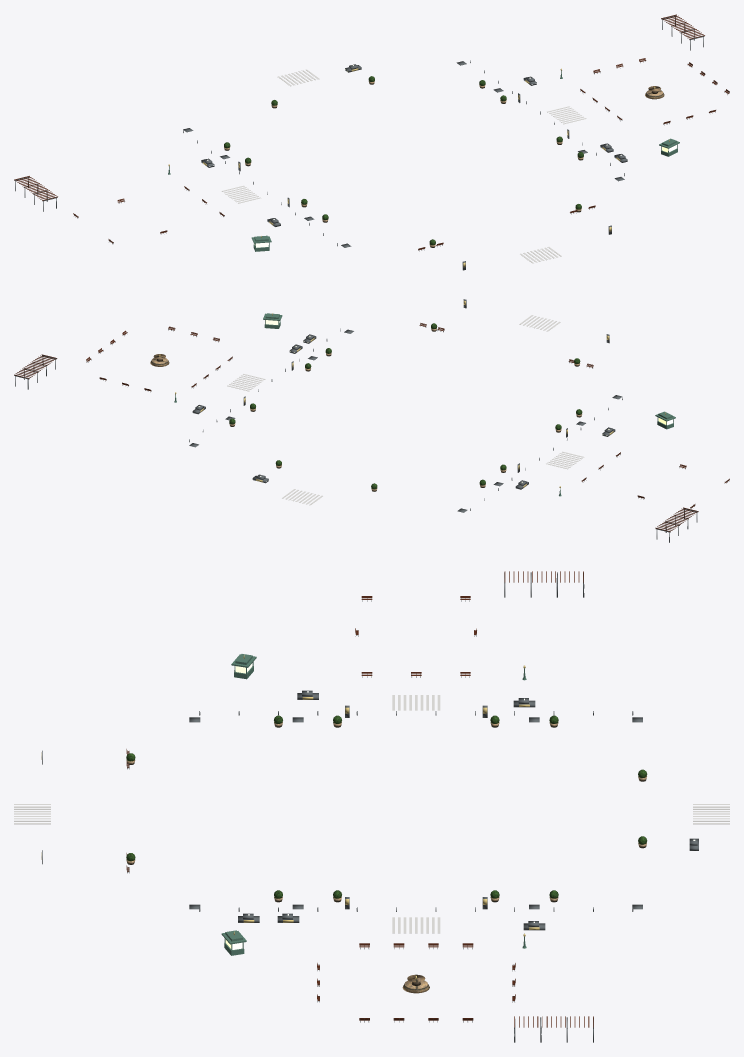
The model's file is plaza_life.glb.
3 renders of one model, top to bottom at view 1: azimuth 30°, elevation 25°; view 2: azimuth 150°, elevation 25°; view 3: azimuth 270°, elevation 25°, orthographic. The views are drawn at different scales.
Parts seen in each view (by area): view 1: Plaza_BollardsAndPergolaIron, Plaza_Crosswalks, Plaza_PergolaWood, Plaza_BarcelonaKiosks, Plaza_FountainAndPlanters, Plaza_PlanterShrubs; view 2: Plaza_BollardsAndPergolaIron, Plaza_Crosswalks, Plaza_PergolaWood, Plaza_BarcelonaKiosks, Plaza_FountainAndPlanters, Plaza_PlanterShrubs; view 3: Plaza_BollardsAndPergolaIron, Plaza_Crosswalks, Plaza_BarcelonaKiosks, Plaza_FountainAndPlanters, Plaza_PlanterShrubs.
Boxes of the visible parts, x1,y1,x2,y2 form: Plaza_BollardsAndPergolaIron: [14, 15, 704, 270]; Plaza_Crosswalks: [221, 69, 586, 263]; Plaza_PergolaWood: [14, 14, 704, 200]; Plaza_BarcelonaKiosks: [168, 70, 679, 251]; Plaza_FountainAndPlanters: [224, 81, 664, 247]; Plaza_PlanterShrubs: [224, 76, 583, 245]; Plaza_BollardsAndPergolaIron: [14, 299, 697, 542]; Plaza_Crosswalks: [227, 315, 584, 505]; Plaza_PergolaWood: [14, 354, 698, 531]; Plaza_BarcelonaKiosks: [174, 313, 675, 496]; Plaza_FountainAndPlanters: [150, 328, 582, 491]; Plaza_PlanterShrubs: [229, 323, 582, 489]; Plaza_BollardsAndPergolaIron: [42, 572, 698, 1042]; Plaza_Crosswalks: [14, 695, 729, 933]; Plaza_BarcelonaKiosks: [221, 654, 526, 955]; Plaza_FountainAndPlanters: [126, 722, 646, 993]; Plaza_PlanterShrubs: [126, 715, 647, 898].
Size of the model in its own units: 219 by 4.9 by 146.
Materials: 8 (3 with a texture image).
